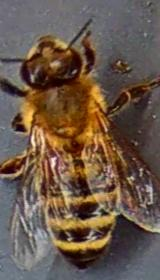varroa_mite: (40, 149, 62, 176)
